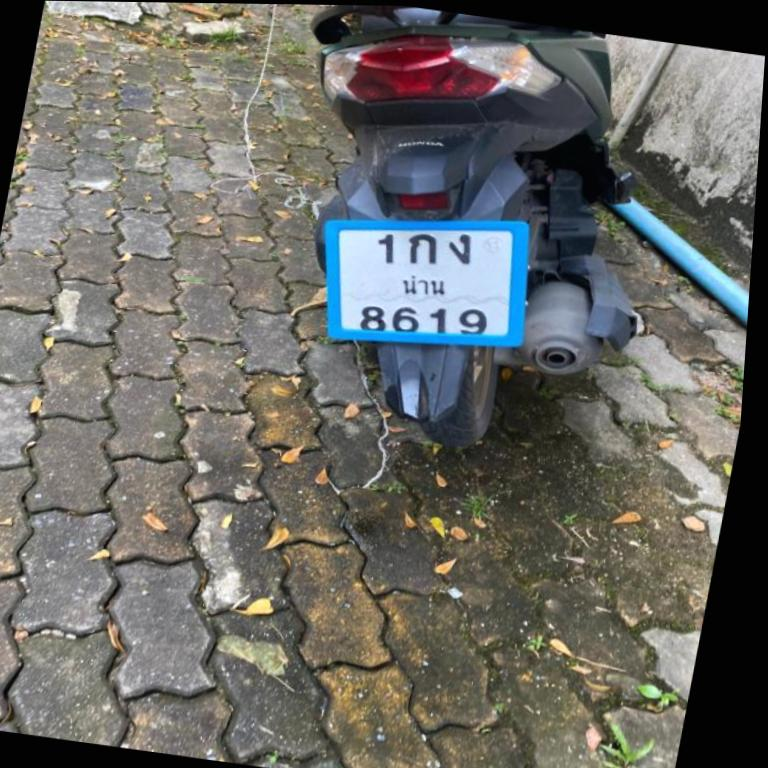license plate: (326, 219, 526, 345)
